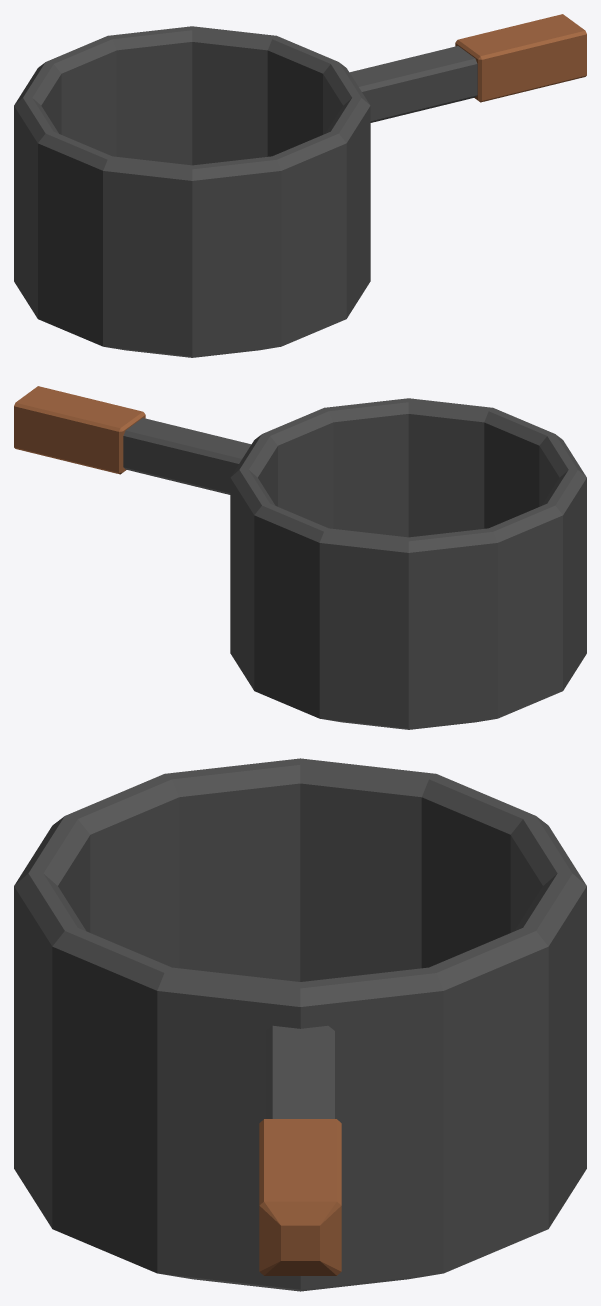
Rendered from pot.gltf.
3 renders of one model, top to bottom at view 1: azimuth 30°, elevation 25°; view 2: azimuth 150°, elevation 25°; view 3: azimuth 270°, elevation 25°, orthographic. The views are drawn at different scales.
Parts seen in each view (by area): view 1: Pot; view 2: Pot; view 3: Pot.
Part boxes in pixels (x1,y1,x2,y2): Pot: (14, 14, 586, 357); Pot: (14, 386, 586, 729); Pot: (14, 758, 586, 1291).
Size of the model in its own units: 1.76 by 0.6298 by 1.
